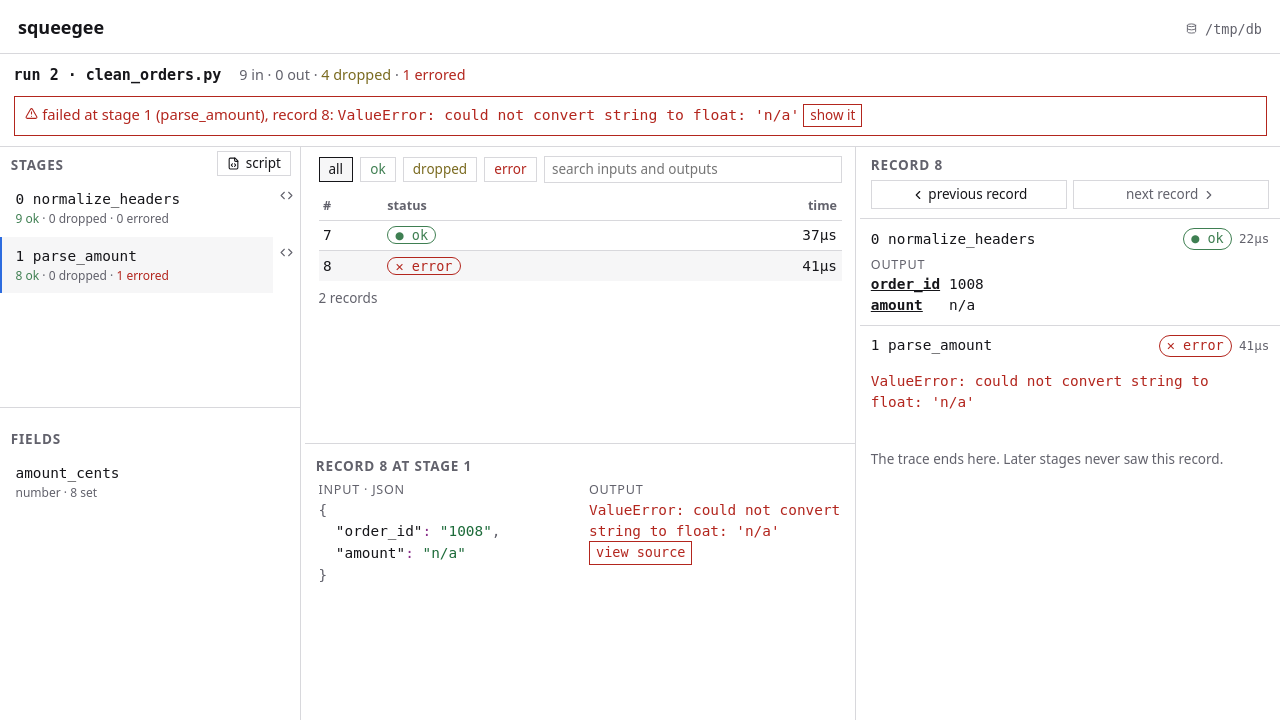
it: a stage's code icon opens its source without moving the selection
The image size is (1280, 720).
Click the button named "source of 0 normalize_headers" at coordinates (286, 197), box [273,180,300,214]
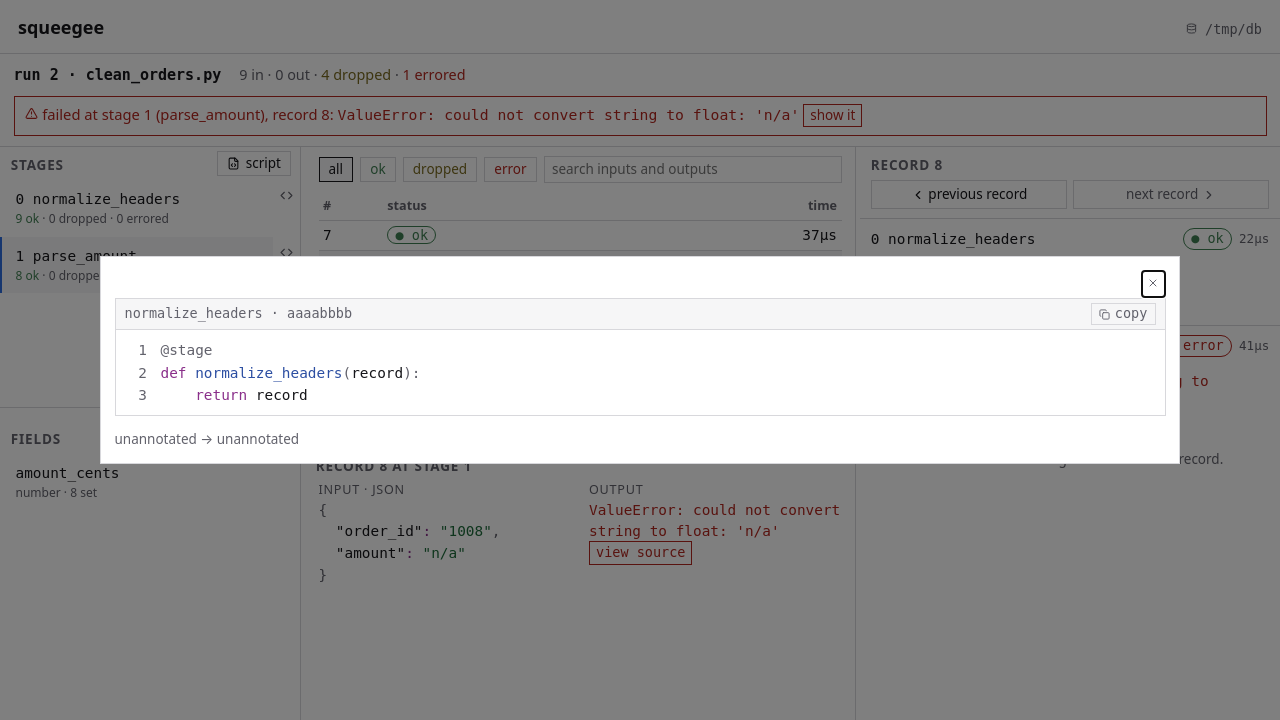
expect the text "normalize_headers · aaaabbbb" is shown: met, box [124,304,352,324]
